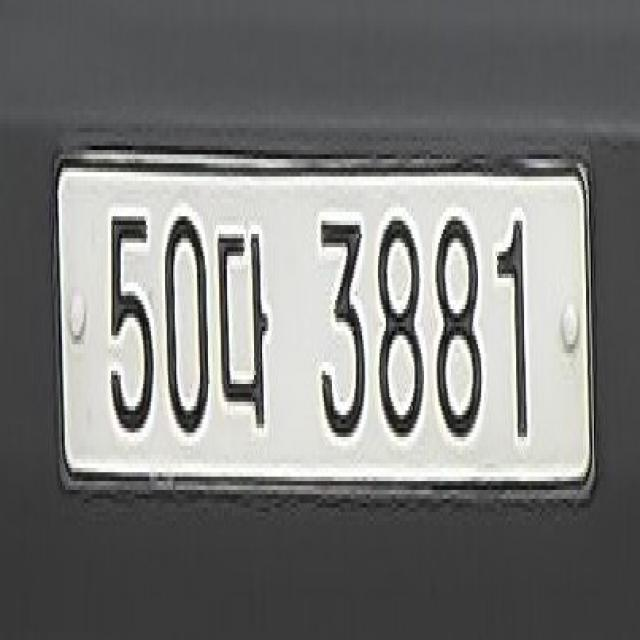0: (163, 206, 210, 441)
1: (495, 214, 530, 452)
3: (313, 202, 373, 464)
5: (102, 194, 156, 436)
8: (435, 208, 486, 446), (376, 210, 424, 450)
da: (216, 188, 273, 452)
license_plate: (42, 124, 602, 521)
